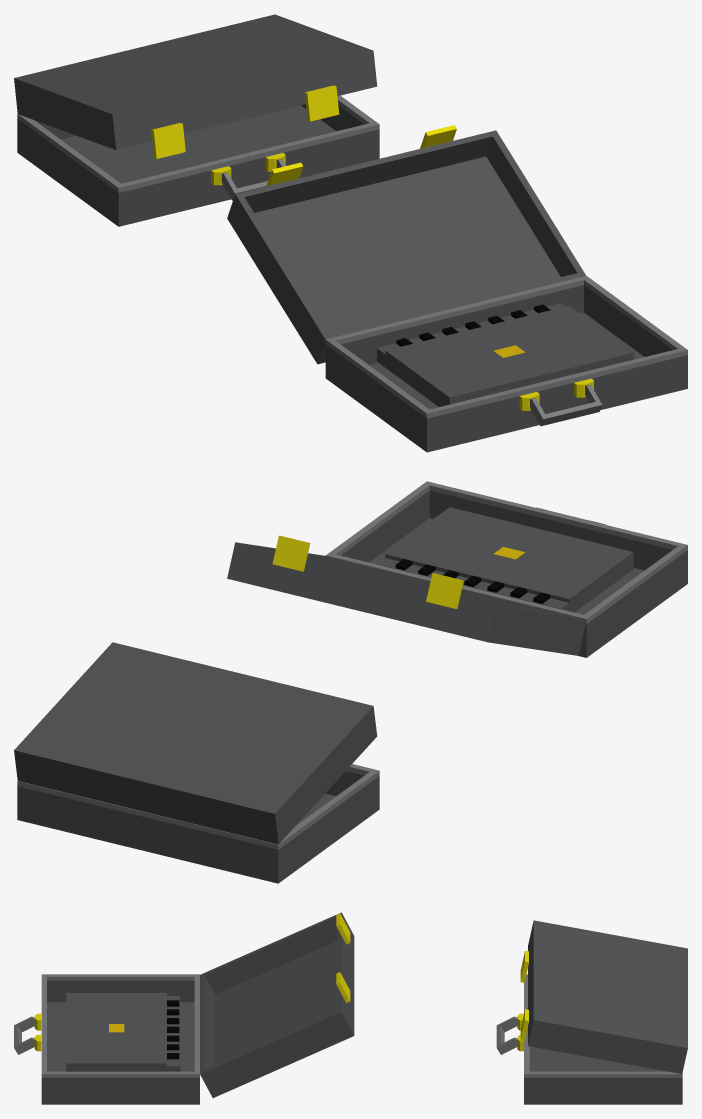
The model's file is Briefcase.fbx.
3 renders of one model, top to bottom at view 1: azimuth 30°, elevation 25°; view 2: azimuth 150°, elevation 25°; view 3: azimuth 270°, elevation 25°, orthographic. The views are drawn at different scales.
Parts seen in each view (by area): view 1: Up_Part (×2), Down_Part (×2), Box; view 2: Up_Part (×2), Down_Part (×2), Box; view 3: Up_Part (×2), Down_Part (×2), Box.
Part boxes in pixels (x1,y1,x2,y2): Up_Part (×2): (14,14,586,364); Down_Part (×2): (17,95,687,452); Box: (377,303,633,406); Up_Part (×2): (14,535,586,844); Down_Part (×2): (17,481,687,883); Box: (377,507,633,612); Up_Part (×2): (200,912,687,1097); Down_Part (×2): (14,974,682,1104); Box: (66,993,180,1071).
Size of the model in its own units: 2.1 by 1.04 by 6.01.
